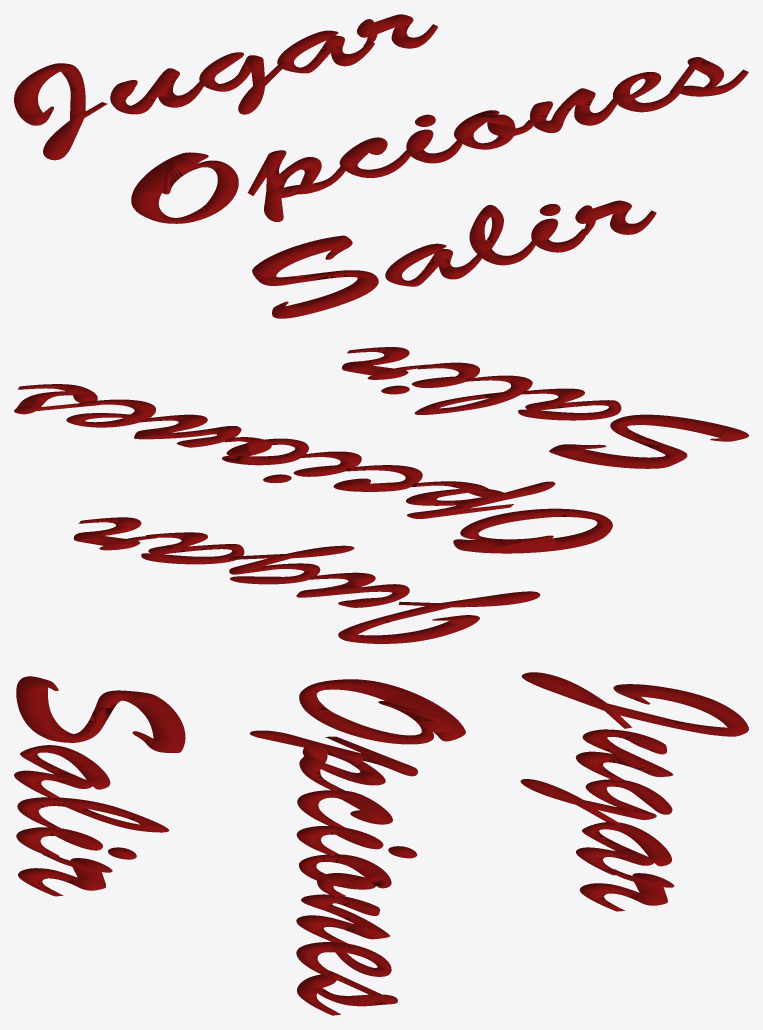
Rendered from menu_bueno.obj.
3 renders of one model, top to bottom at view 1: azimuth 30°, elevation 25°; view 2: azimuth 150°, elevation 25°; view 3: azimuth 270°, elevation 25°, orthographic. The views are drawn at different scales.
Visible parts, largest first — view 1: TextPlus001; view 2: TextPlus001; view 3: TextPlus001.
Boxes of the visible parts, box(x1,y1,x2,y2) form: TextPlus001: box(14, 14, 748, 318); TextPlus001: box(14, 347, 748, 643); TextPlus001: box(14, 672, 748, 1015).
Size of the model in its own units: 72.46 by 0.001 by 65.55.
